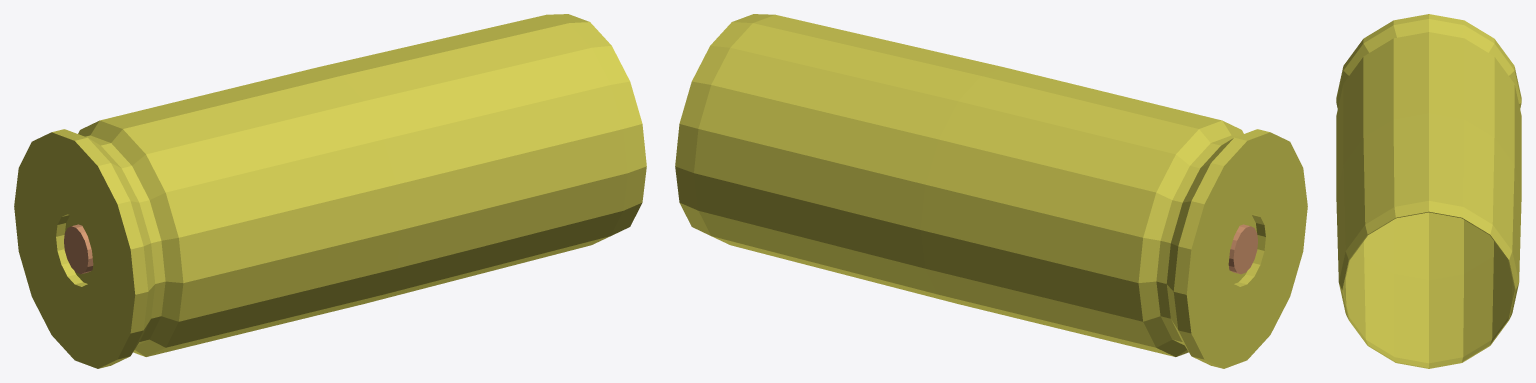
The model's file is smgShell.fbx.
3 renders of one model, left to right at view 1: azimuth 30°, elevation 25°; view 2: azimuth 150°, elevation 25°; view 3: azimuth 270°, elevation 25°, orthographic. The views are drawn at different scales.
Parts seen in each view (by area): view 1: Cylinder; view 2: Cylinder; view 3: Cylinder.
Boxes of the visible parts, x1=… form: Cylinder: x1=14, y1=14, x2=646, y2=368; Cylinder: x1=675, y1=14, x2=1307, y2=368; Cylinder: x1=1336, y1=14, x2=1521, y2=368.
Bounding box in the file's own units: 4.2 × 1.71 × 1.71.
